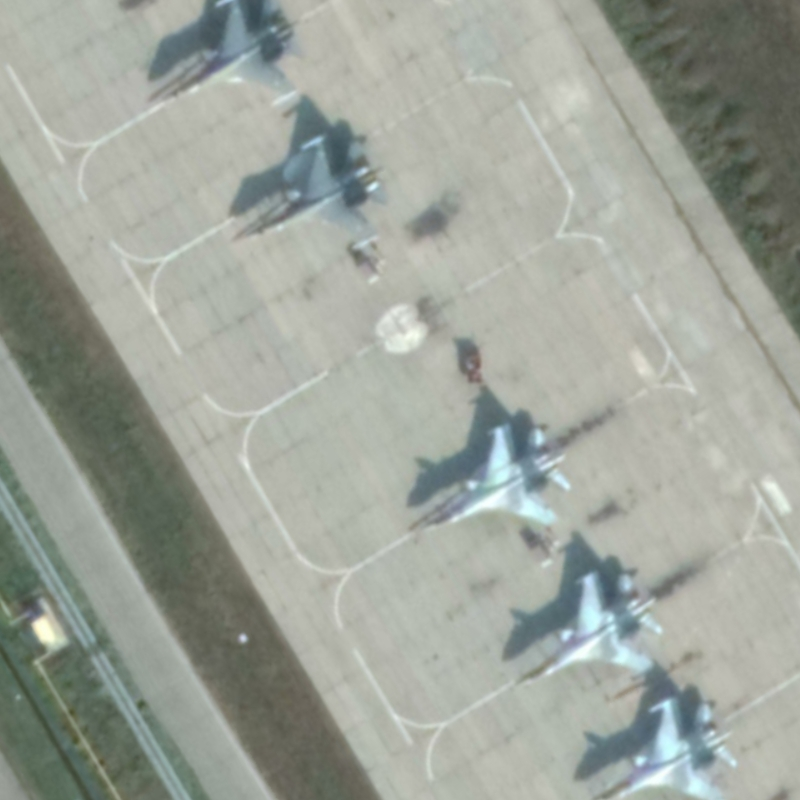A1: (244, 128, 393, 254), (419, 420, 574, 536), (515, 567, 666, 686), (156, 1, 311, 107), (594, 694, 740, 800)
